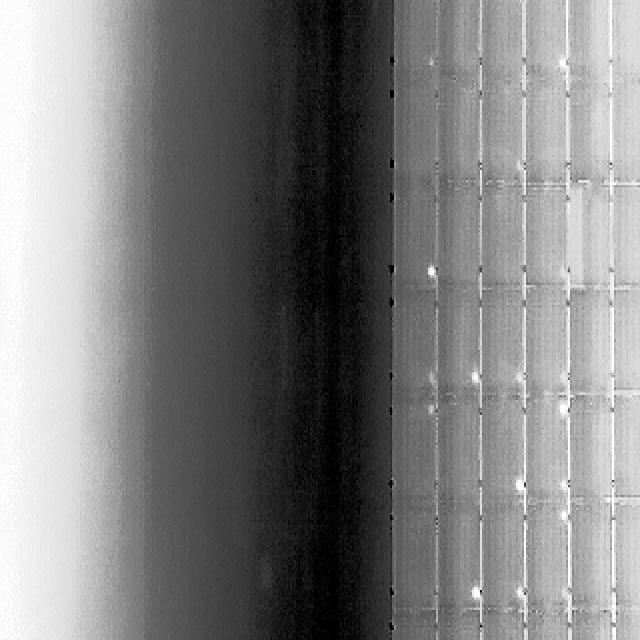Hotspots: (464, 580, 484, 602), (554, 399, 571, 423), (507, 366, 522, 390), (466, 368, 483, 389), (423, 263, 441, 282), (508, 477, 523, 499), (556, 476, 571, 497), (558, 580, 572, 602), (552, 267, 569, 282), (559, 504, 571, 525), (554, 58, 570, 73), (512, 583, 522, 600)
PV-modules: (472, 284, 520, 397), (433, 285, 480, 398), (525, 503, 572, 613), (524, 289, 570, 399), (566, 288, 612, 397), (568, 503, 613, 614), (432, 182, 479, 288), (526, 395, 571, 505), (526, 81, 572, 188), (435, 506, 480, 615), (479, 503, 524, 612), (437, 398, 483, 504), (473, 400, 518, 508), (393, 290, 436, 403), (394, 506, 438, 616), (568, 394, 613, 501), (566, 183, 612, 286), (437, 84, 483, 187), (393, 402, 438, 506), (566, 81, 610, 187), (526, 184, 572, 285), (393, 182, 436, 290), (480, 83, 524, 188), (479, 183, 524, 285), (394, 81, 436, 187), (435, 0, 483, 79), (604, 80, 640, 185), (563, 0, 609, 78), (526, 0, 570, 81), (479, 0, 524, 79), (608, 500, 640, 610), (393, 0, 437, 76), (610, 183, 640, 285), (612, 390, 640, 498), (612, 287, 640, 395), (610, 0, 640, 75), (564, 607, 612, 640), (526, 607, 572, 640), (392, 607, 436, 640), (436, 610, 482, 640), (472, 612, 520, 640), (612, 605, 640, 640)
